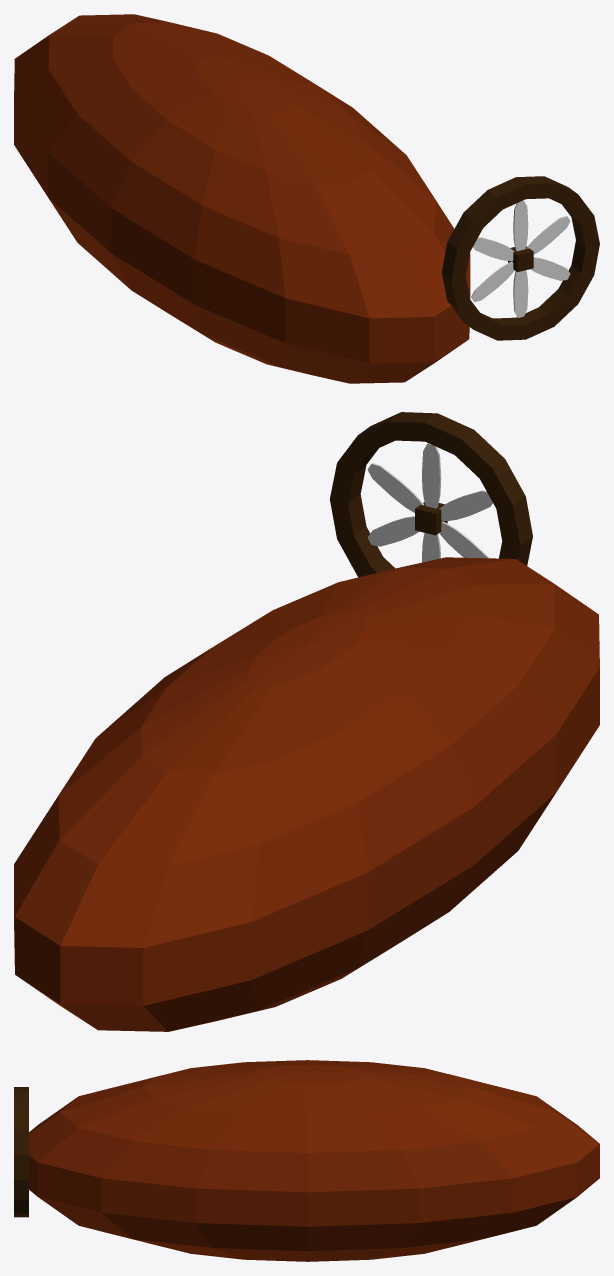
File: planeShip.fbx
3 views of the same model, one above another, from view 1: azimuth 30°, elevation 25°; view 2: azimuth 150°, elevation 25°; view 3: azimuth 270°, elevation 25° (orthographic). The views are drawn at different scales.
Visible parts, largest first — view 1: body, Wheel, wheelInside; view 2: body, Wheel, wheelInside; view 3: body, Wheel.
Boxes of the visible parts, box(x1,y1,x2,y2) form: body: box(14, 14, 470, 383); Wheel: box(441, 176, 599, 340); wheelInside: box(471, 200, 570, 317); body: box(14, 557, 599, 1031); Wheel: box(330, 412, 532, 577); wheelInside: box(367, 443, 492, 562); body: box(29, 1060, 599, 1261); Wheel: box(14, 1087, 28, 1217).
Bounding box in the file's own units: 399 × 321 × 898.
